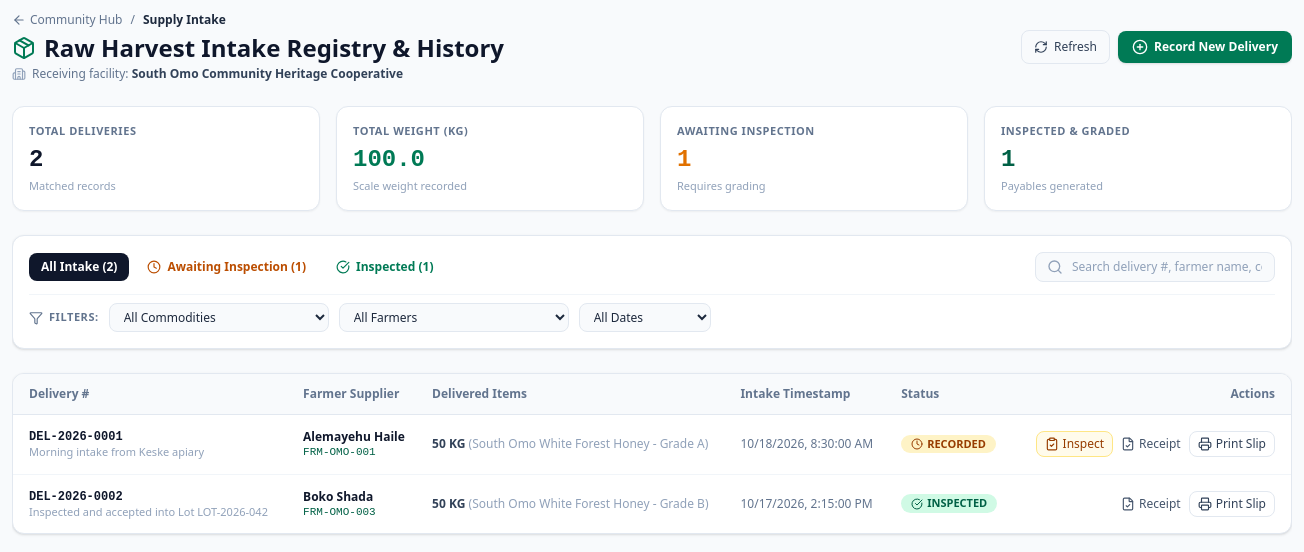
Test: Raw Harvest Supply Intake & Receipt Generation (F-804) › searches deliveries by farmer name and delivery number
Check: the text "DEL-2026-0001" is shown, box left=29, top=430, right=123, bottom=444
Type "Boko" into the field with test id "deliveries-search-input".
click(1155, 267); type("Boko")  # box left=1035, top=252, right=1275, bottom=282
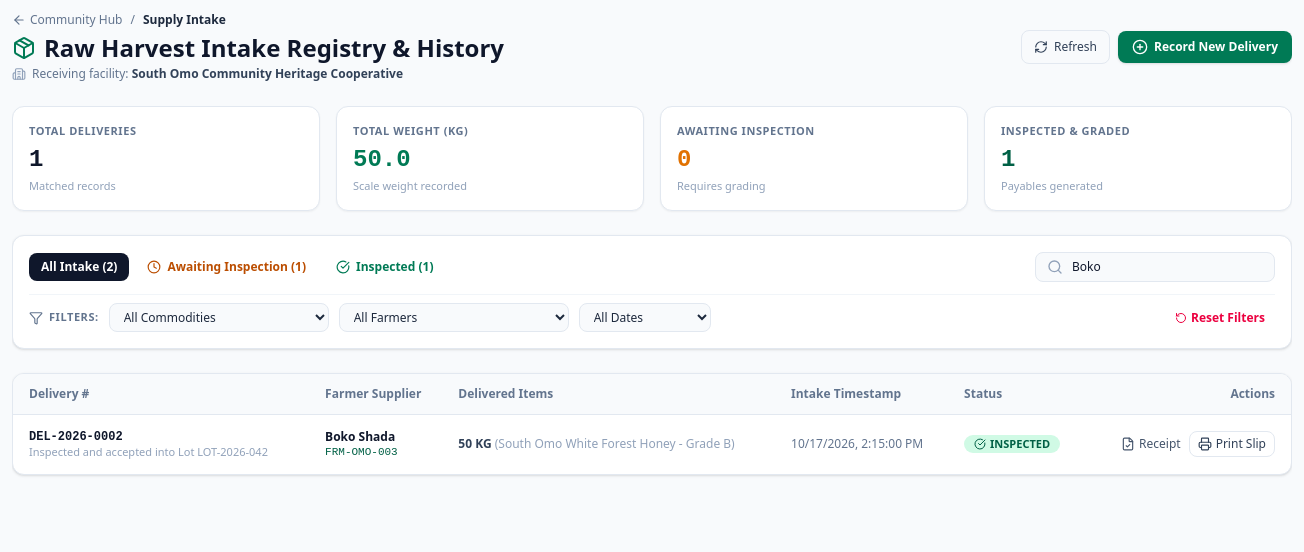
Check: the text "DEL-2026-0002" is shown, box left=29, top=430, right=123, bottom=444
Check: the text "DEL-2026-0001" is gone
